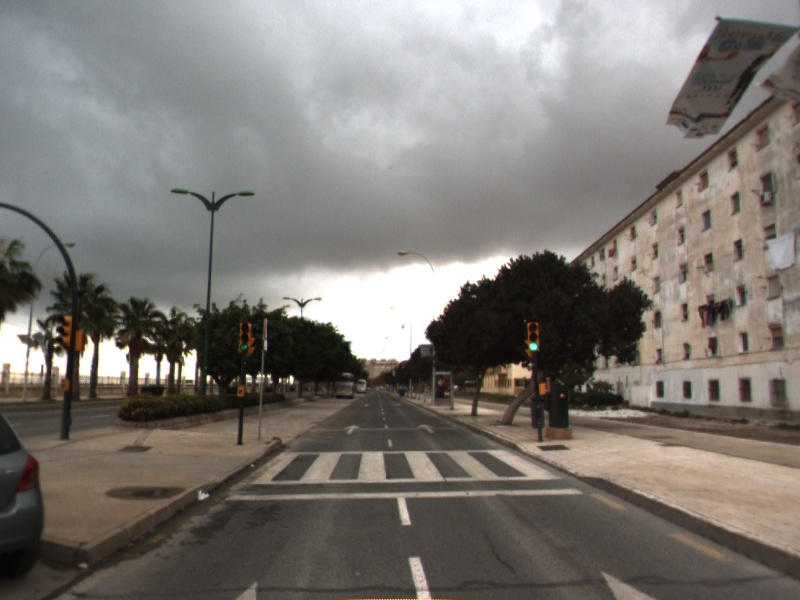STRAIGHT: (415, 422, 438, 435), (341, 423, 363, 436)
